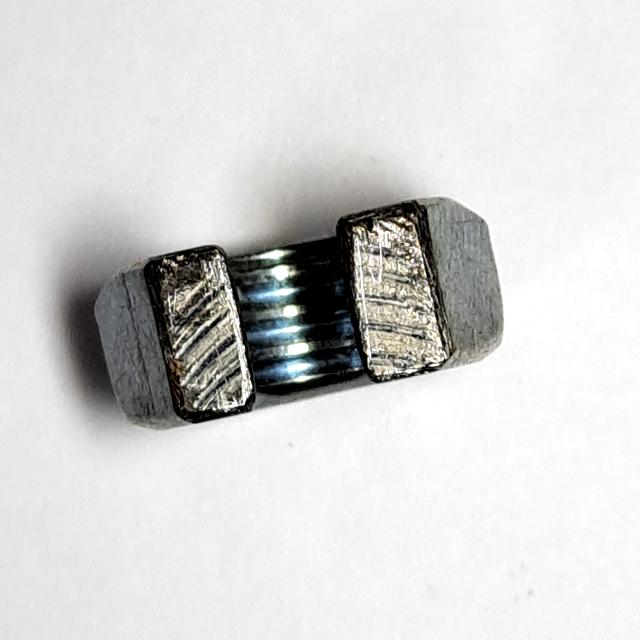Side-Fracture: (77, 182, 518, 443)
